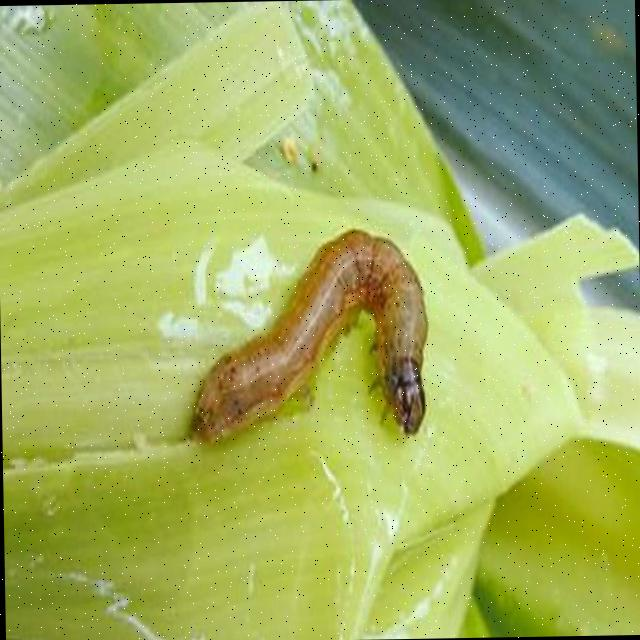worm: (186, 226, 433, 448)
